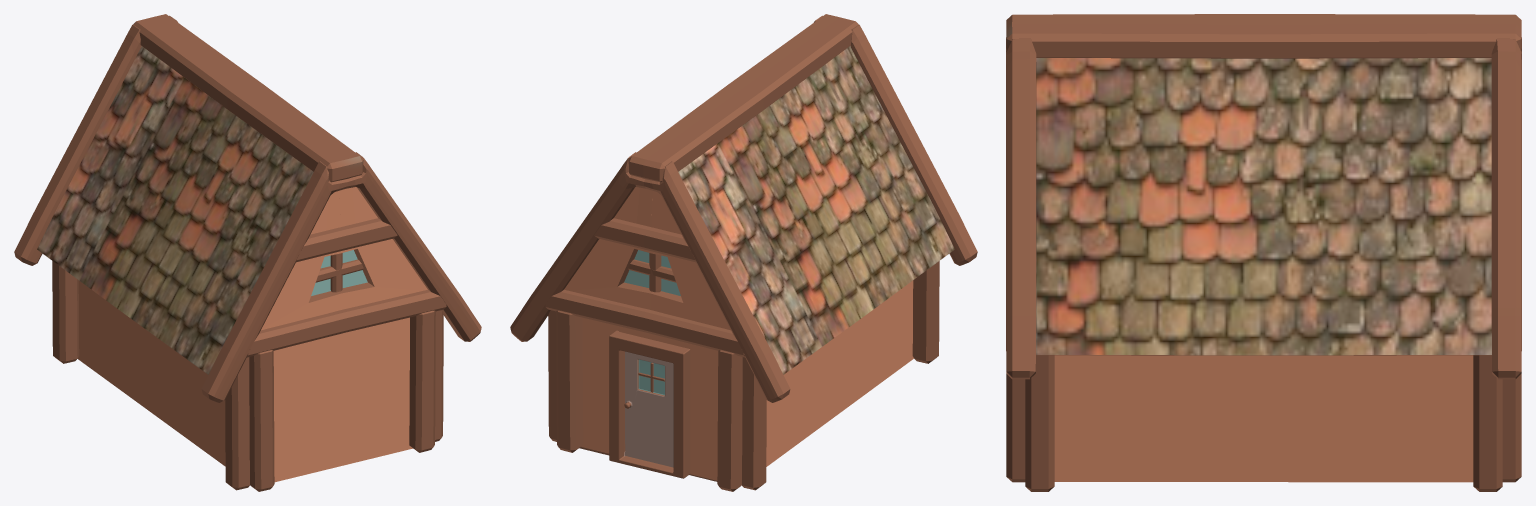
Rendered from HouseSkyrim.fbx.
3 views of the same model, side by side, from view 1: azimuth 30°, elevation 25°; view 2: azimuth 150°, elevation 25°; view 3: azimuth 270°, elevation 25° (orthographic). The views are drawn at different scales.
Visible parts, largest first — view 1: WholeHouse; view 2: WholeHouse, DoorFrame, Doors, DoorWall, DoorWall.001; view 3: WholeHouse.
Part boxes in pixels (bbox=[...]): WholeHouse: bbox=[14, 14, 481, 491]; WholeHouse: bbox=[510, 14, 977, 491]; DoorFrame: bbox=[609, 330, 690, 478]; Doors: bbox=[624, 351, 673, 468]; DoorWall: bbox=[687, 343, 718, 480]; DoorWall.001: bbox=[581, 317, 618, 453]; WholeHouse: bbox=[1006, 14, 1521, 491].
Bounding box in the file's own units: 470 × 512 × 592.
1 material, 1 textured.
